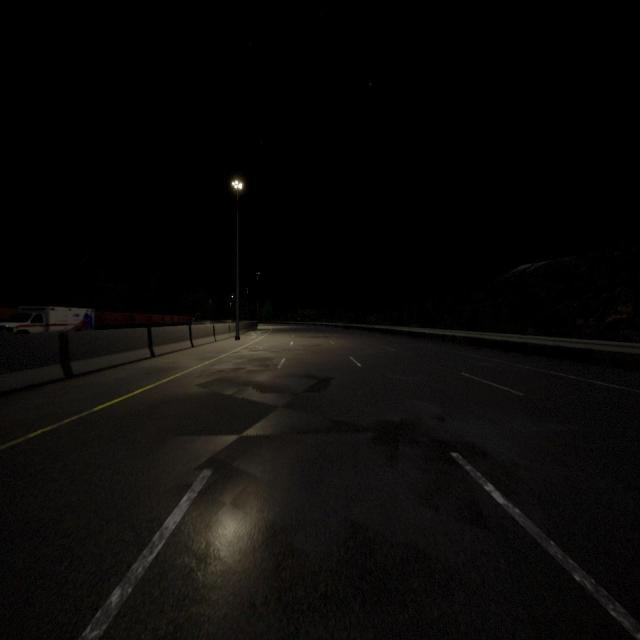Vehicle: (0, 305, 95, 337)
